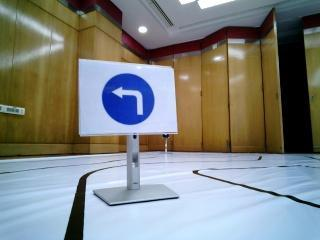left: (90, 66, 172, 133)
